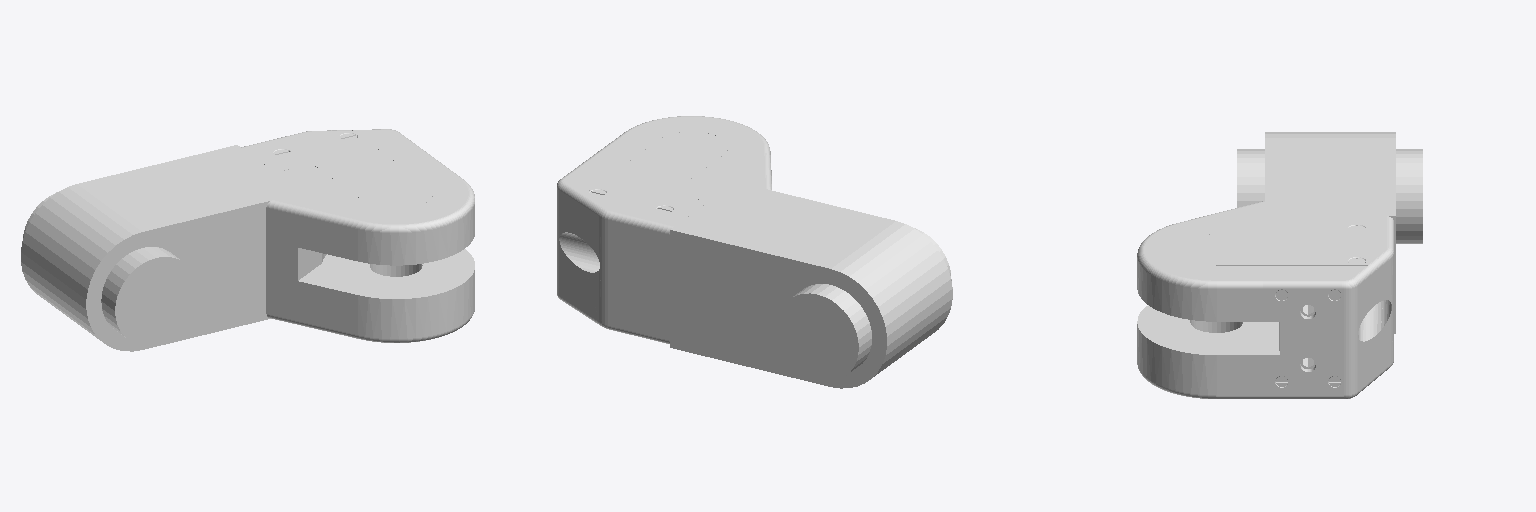
3 views of the same model, side by side, from view 1: azimuth 30°, elevation 25°; view 2: azimuth 150°, elevation 25°; view 3: azimuth 270°, elevation 25° (orthographic).
Parts seen in each view (by area): view 1: Bhand_Finger_Prox_Link_Fine; view 2: Bhand_Finger_Prox_Link_Fine; view 3: Bhand_Finger_Prox_Link_Fine.
Part boxes in pixels (x1,y1,x2,y2): Bhand_Finger_Prox_Link_Fine: (21,129,474,351); Bhand_Finger_Prox_Link_Fine: (557,116,952,388); Bhand_Finger_Prox_Link_Fine: (1137,132,1422,398).
Size of the model in its own units: 0.0773 by 0.0246 by 0.0539.
1 materials, 1 textured.